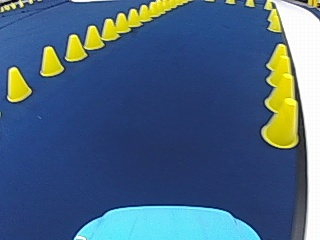cone: (261, 96, 300, 147), (263, 47, 293, 106), (267, 71, 295, 110), (265, 42, 290, 84), (6, 65, 32, 102), (38, 44, 63, 76), (64, 33, 87, 60), (83, 24, 103, 49), (100, 18, 118, 40), (266, 9, 281, 31), (114, 12, 129, 32), (126, 8, 140, 27), (138, 4, 150, 21), (148, 1, 159, 16)
